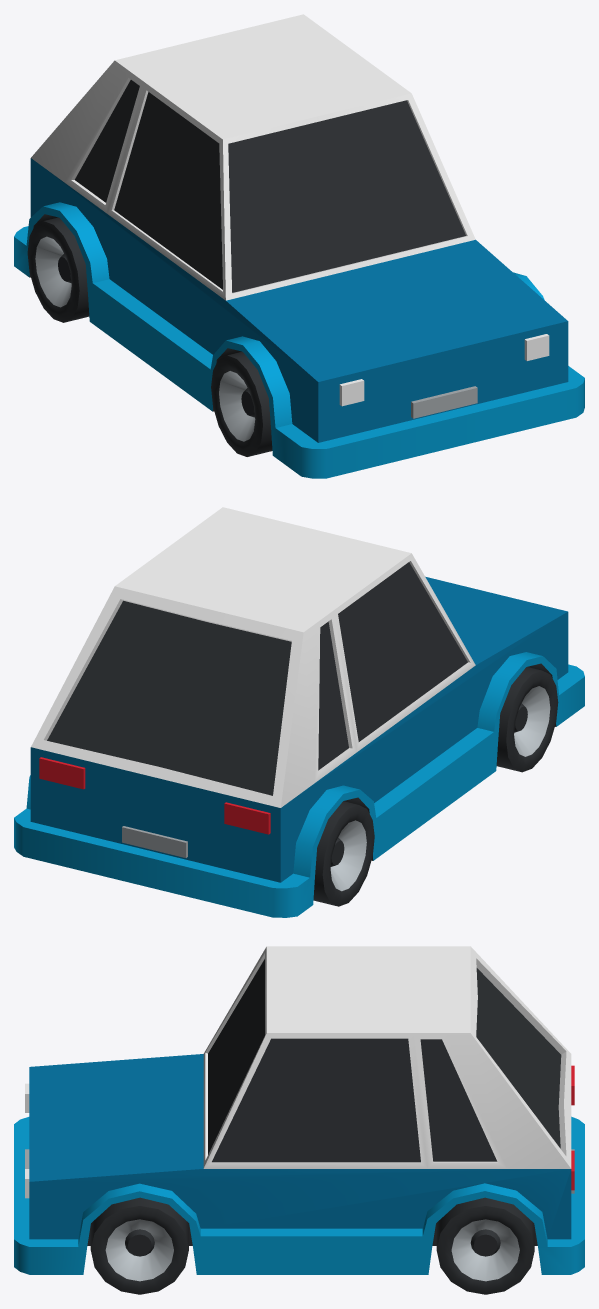
File: Car_2.fbx
The picture shows the model from 3 angles, top to bottom: view 1: azimuth 30°, elevation 25°; view 2: azimuth 150°, elevation 25°; view 3: azimuth 270°, elevation 25°; orthographic projection. The views are drawn at different scales.
Visible parts, largest first — view 1: Car 2, Car2Wheel4, Car2Wheel2; view 2: Car 2, Car2Wheel2, Car2Wheel4; view 3: Car 2, Car2Wheel3, Car2Wheel1.
Part boxes in pixels (x1,y1,x2,y2): Car 2: [14, 14, 584, 478]; Car2Wheel4: [27, 217, 89, 322]; Car2Wheel2: [211, 351, 272, 456]; Car 2: [14, 507, 584, 917]; Car2Wheel2: [496, 667, 558, 772]; Car2Wheel4: [313, 801, 374, 906]; Car 2: [14, 946, 584, 1274]; Car2Wheel3: [436, 1197, 534, 1294]; Car2Wheel1: [90, 1197, 188, 1294].
Bounding box in the file's own units: 289 × 232 × 507.
1 material, 1 textured.
